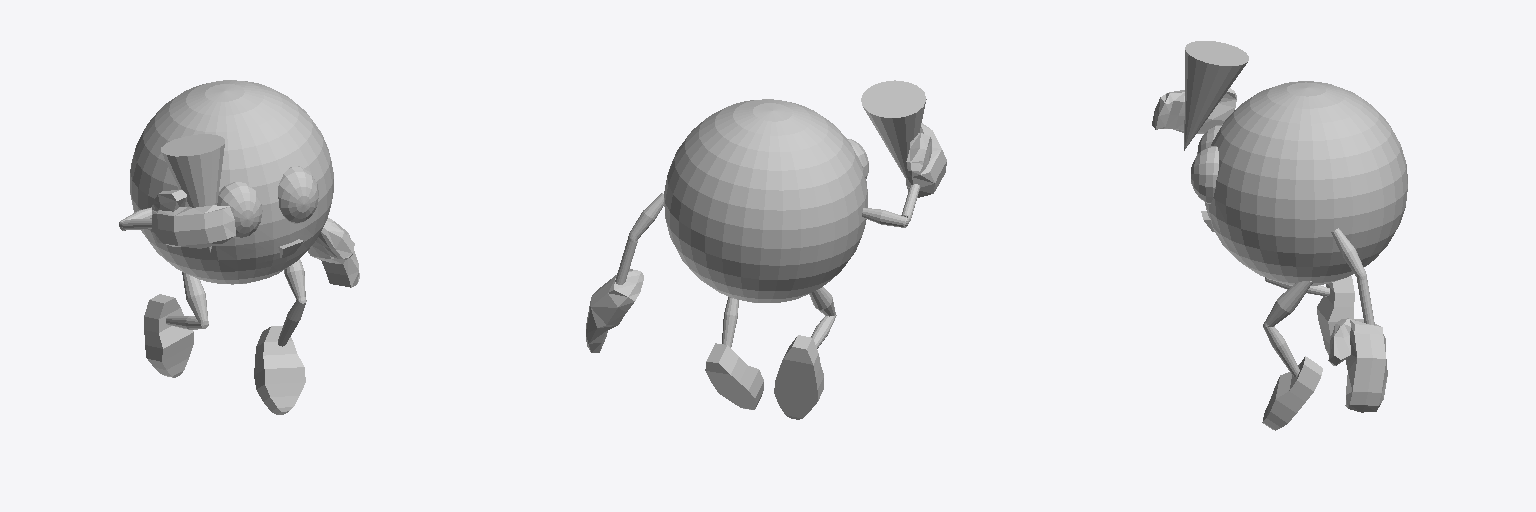
The model's file is runToStand_000019.obj.
The picture shows the model from 3 angles: view 1: azimuth 30°, elevation 25°; view 2: azimuth 150°, elevation 25°; view 3: azimuth 270°, elevation 25°; orthographic projection.
Visible parts, largest first — view 1: Rusko_Sphere; view 2: Rusko_Sphere; view 3: Rusko_Sphere.
Boxes of the visible parts, x1,y1,x2,y2 form: Rusko_Sphere: [119, 80, 359, 414]; Rusko_Sphere: [586, 80, 946, 419]; Rusko_Sphere: [1152, 41, 1407, 430].
Bounding box in the file's own units: 6.26 × 6.97 × 5.